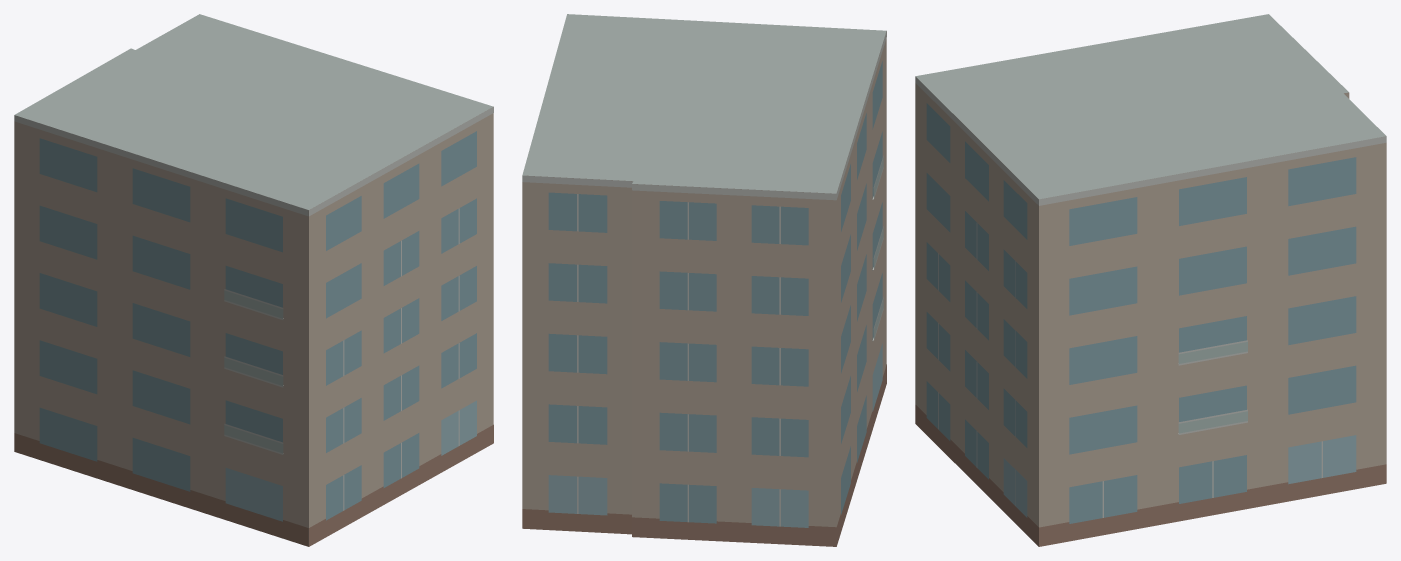
The model's file is survey-upis-32742324.glb.
3 views of the same model, side by side, from view 1: azimuth 30°, elevation 25°; view 2: azimuth 150°, elevation 25°; view 3: azimuth 270°, elevation 25° (orthographic). The views are drawn at different scales.
Parts seen in each view (by area): view 1: survey-upis-32742324.tmp; view 2: survey-upis-32742324.tmp; view 3: survey-upis-32742324.tmp.
Part boxes in pixels (box(x1,y1,x2,y2)): survey-upis-32742324.tmp: box(14, 14, 493, 546); survey-upis-32742324.tmp: box(522, 14, 886, 546); survey-upis-32742324.tmp: box(915, 14, 1386, 546).
Size of the model in its own units: 14.88 by 13 by 15.99.
